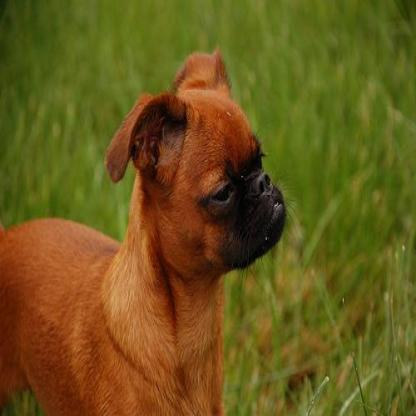Brabancon_griffon: (1, 43, 289, 414)
